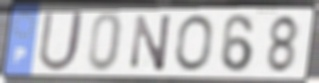0: (86, 10, 125, 74)
6: (219, 12, 257, 75)
8: (266, 13, 302, 75)
N: (129, 13, 174, 74)
O: (174, 13, 214, 73)
U: (36, 9, 87, 74)
